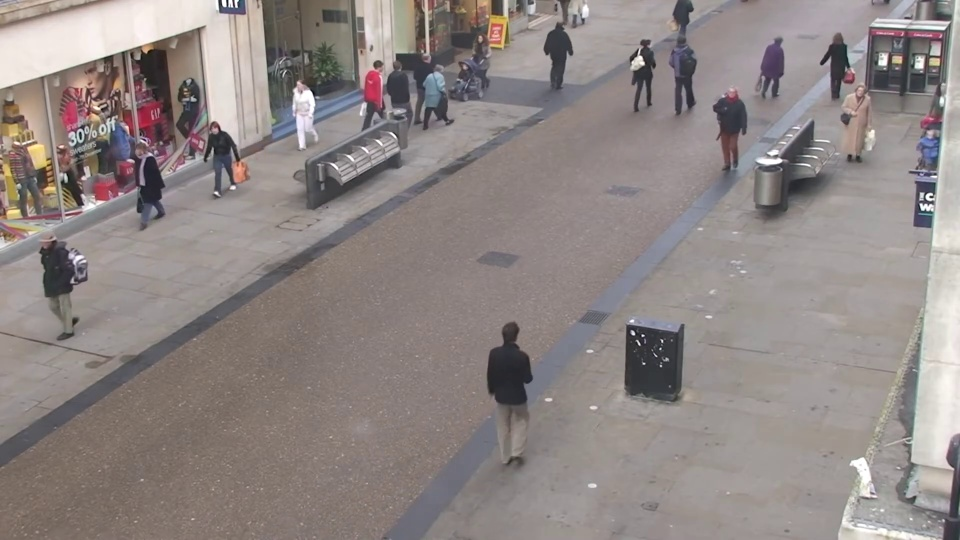pedestrian: (14, 228, 74, 352), (500, 308, 546, 455), (901, 127, 949, 229), (119, 140, 162, 240), (193, 119, 231, 214), (836, 83, 873, 172), (713, 86, 744, 174), (284, 77, 315, 160), (819, 30, 851, 105), (432, 58, 460, 137), (444, 59, 472, 138), (388, 56, 416, 134), (371, 54, 399, 132), (765, 30, 794, 104), (419, 48, 446, 125), (464, 32, 490, 104), (673, 31, 698, 104), (636, 31, 661, 104), (551, 17, 574, 85)
